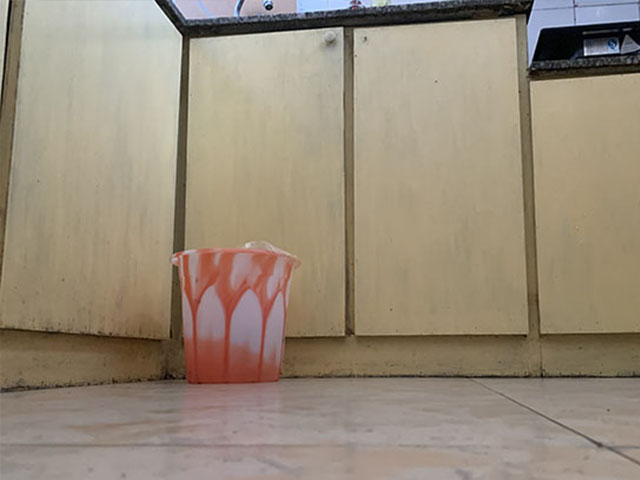cabinet: (186, 1, 640, 378), (1, 1, 187, 393)
trashcan: (163, 236, 297, 383)
